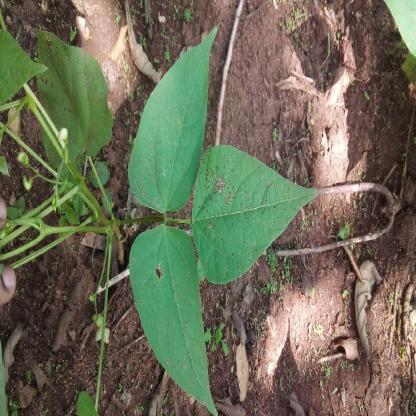Beans_Angular_LeafSpot: (118, 25, 214, 215), (189, 146, 316, 280), (132, 220, 216, 416)
